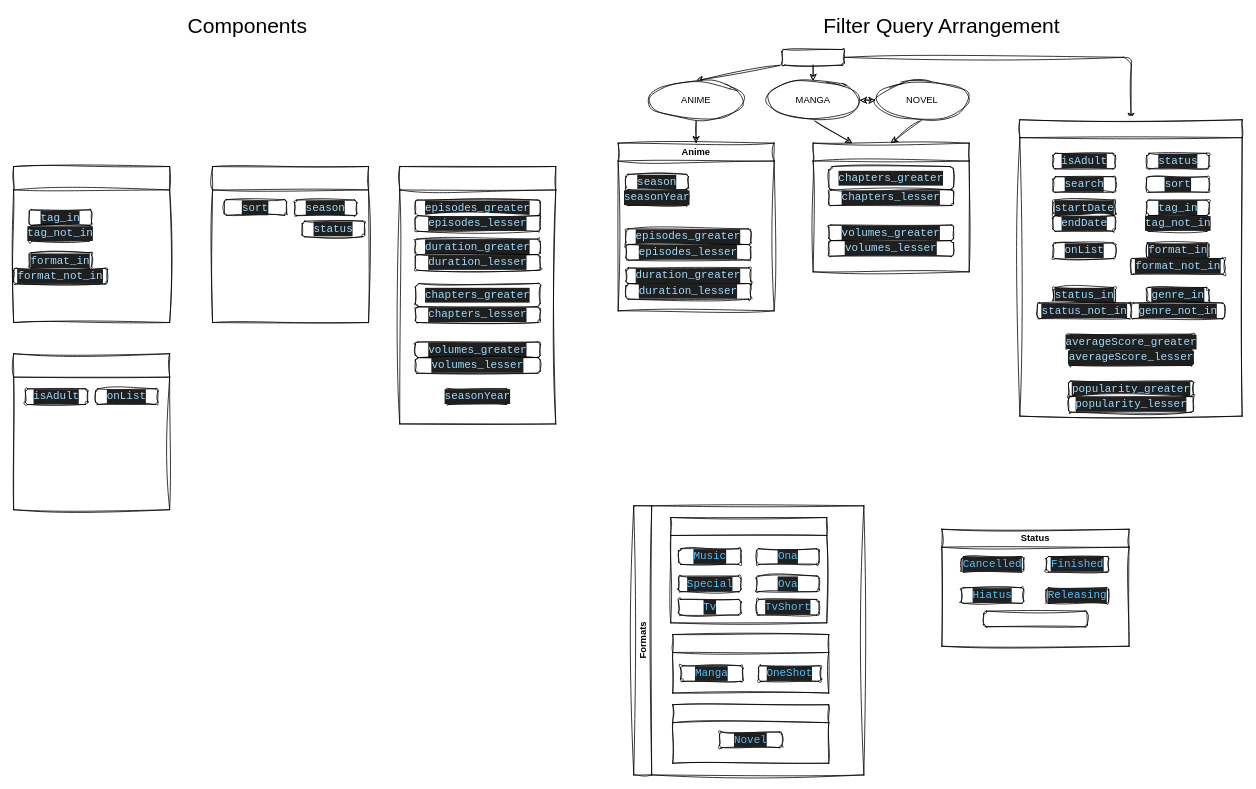
Image size: 1256x789. Some labels were removed from this diagram. The shapes that lost their labels are listed below. From the top down, each one's box as (x1, y1, x2, y2) in pixels, then its label:
(781, 49, 844, 65): type
(812, 142, 969, 272): Manga/Novel
(13, 166, 170, 323): Chips
(212, 166, 369, 323): Menu/Dropdown
(1019, 119, 1242, 416): Universal
(399, 166, 556, 424): Slider
(13, 353, 170, 510): Checkbox
(670, 517, 827, 623): Anime Formats
(983, 610, 1087, 627): NotYetReleased
(672, 634, 829, 693): Manga Formats
(672, 704, 829, 763): Novel Formats
